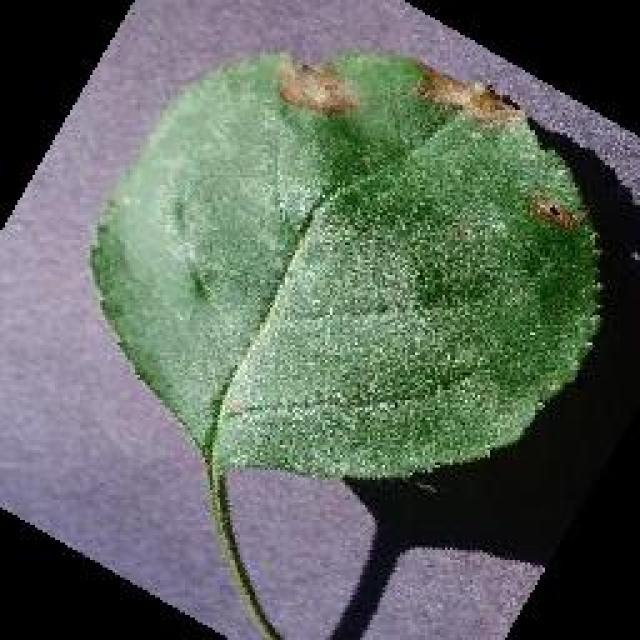Black_rot: (87, 45, 605, 637)
